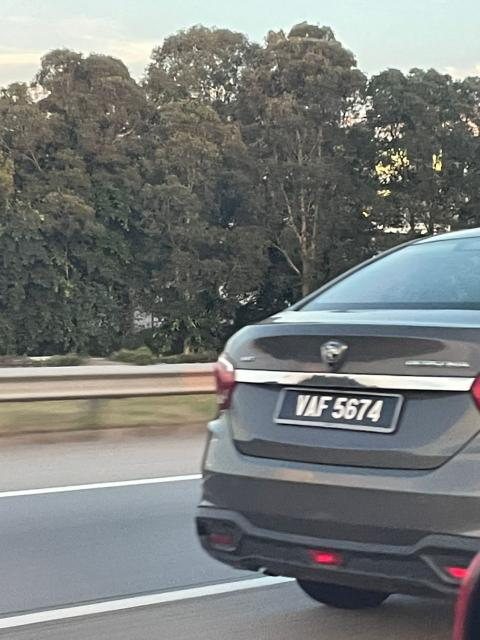License_Plate: (283, 388, 392, 436)
lorry: (186, 216, 480, 591)
